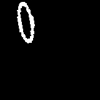chain: (17, 2, 34, 42)
